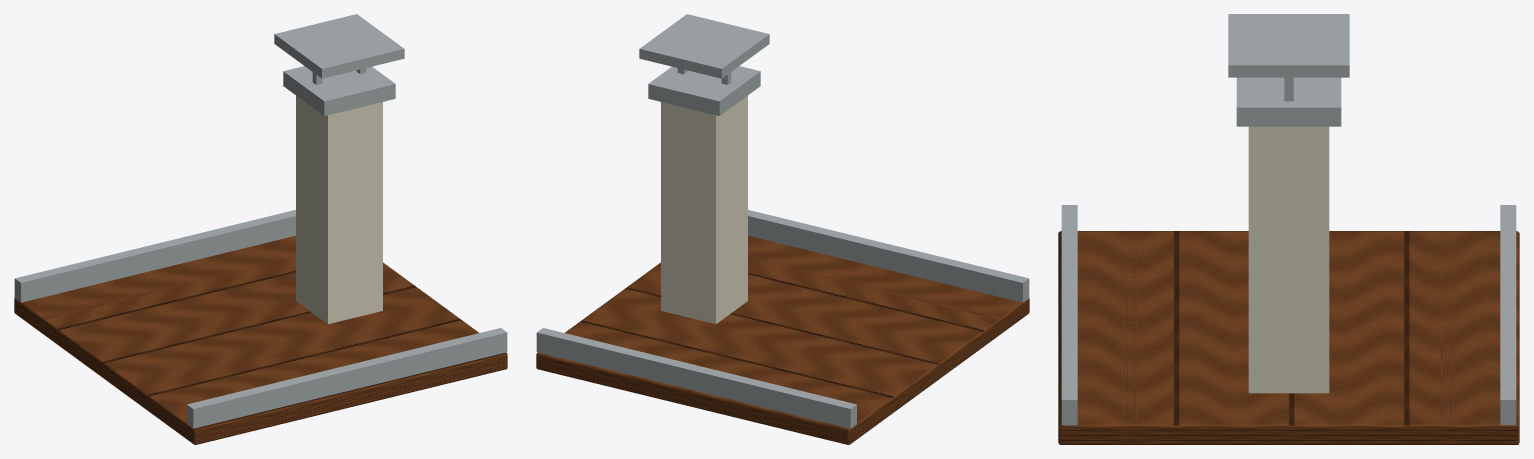
The model's file is modular-survival-base-builder-roof-chimney-bay-75aec9ad__24183.glb.
The picture shows the model from 3 angles, left to right: view 1: azimuth 30°, elevation 25°; view 2: azimuth 150°, elevation 25°; view 3: azimuth 270°, elevation 25°; orthographic projection. The views are drawn at different scales.
Parts seen in each view (by area): view 1: roof-chimney-bay; view 2: roof-chimney-bay; view 3: roof-chimney-bay.
Part boxes in pixels (bbox=[...]): roof-chimney-bay: bbox=[14, 14, 507, 444]; roof-chimney-bay: bbox=[536, 14, 1029, 444]; roof-chimney-bay: bbox=[1058, 14, 1519, 444].
Size of the model in its own units: 2 by 1.71 by 2.
3 materials, 1 textured.
